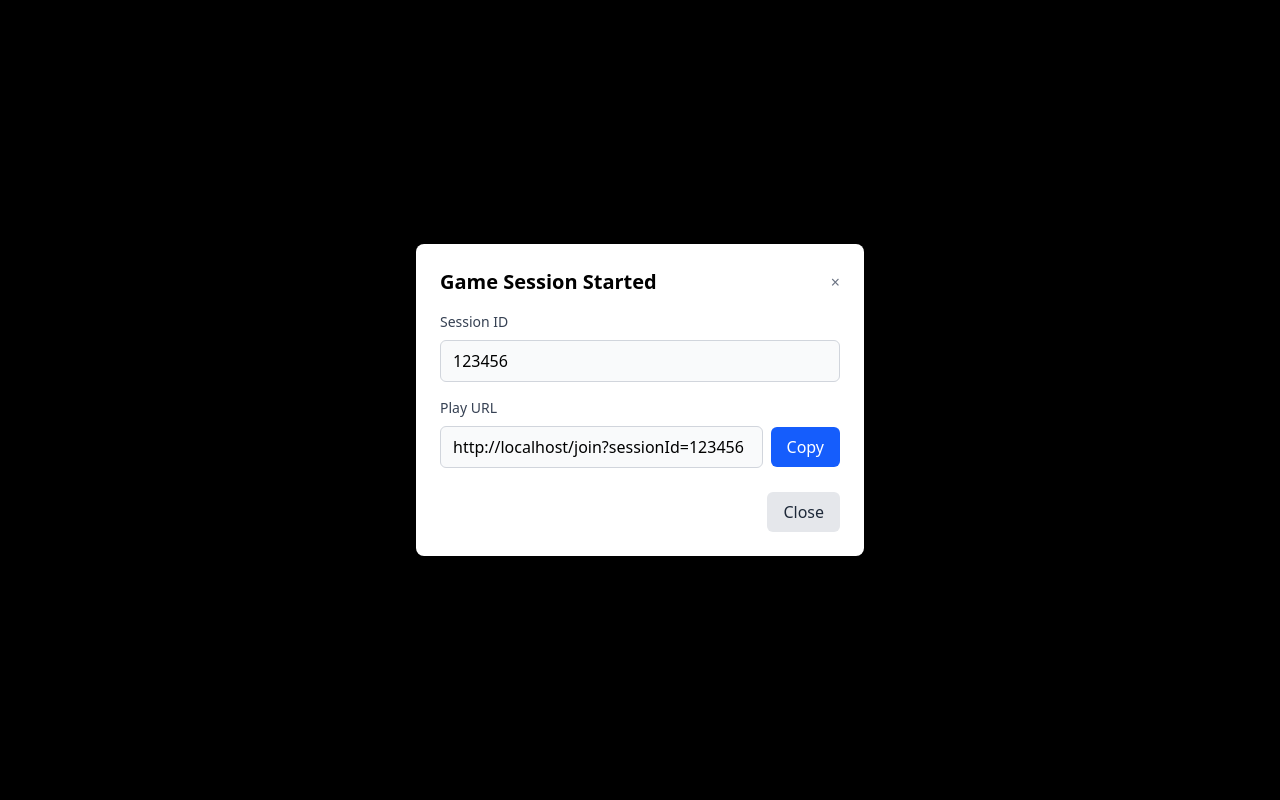
Test case: SessionPopup › shows error message when clipboard write fails
This screenshot has width=1280, height=800.
Click the button "Copy".
click(805, 447)  # box [770,427,840,467]
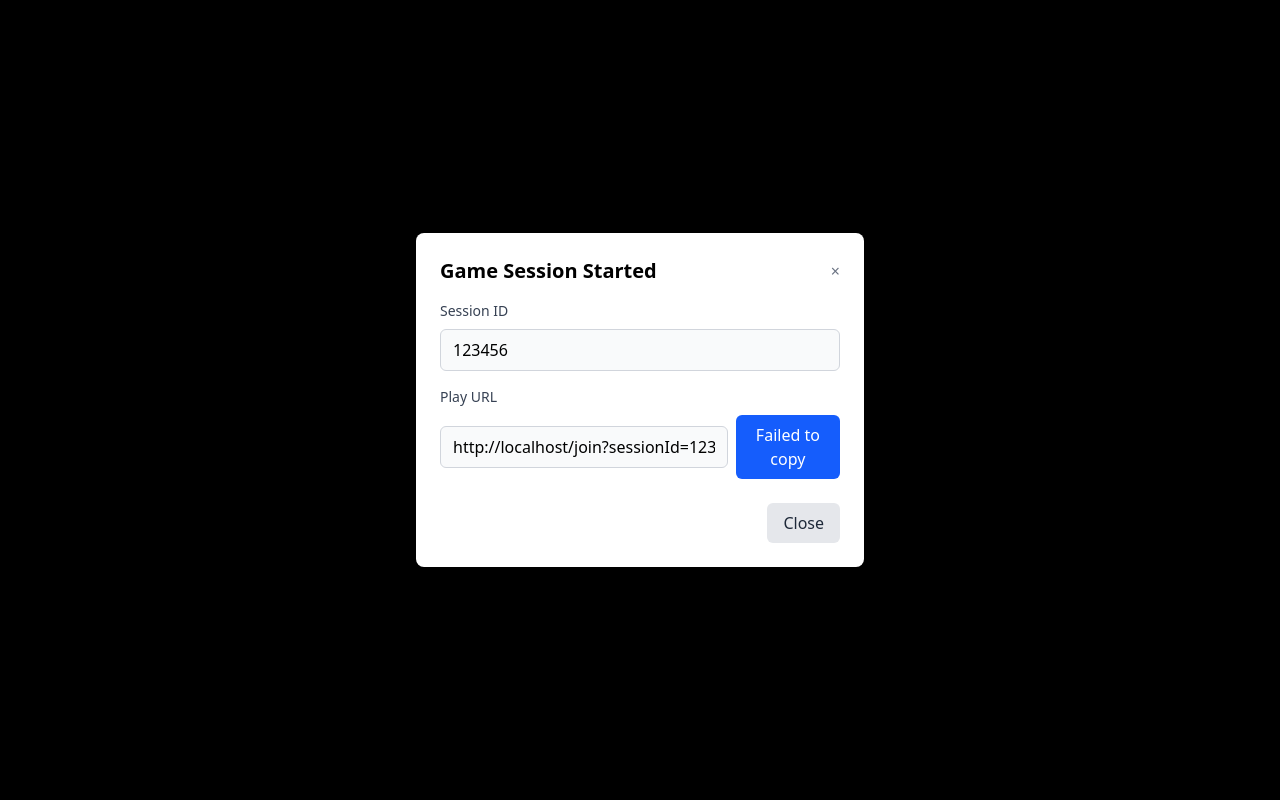
Expected: the button "Failed to copy" is shown, [736,415,840,479]
